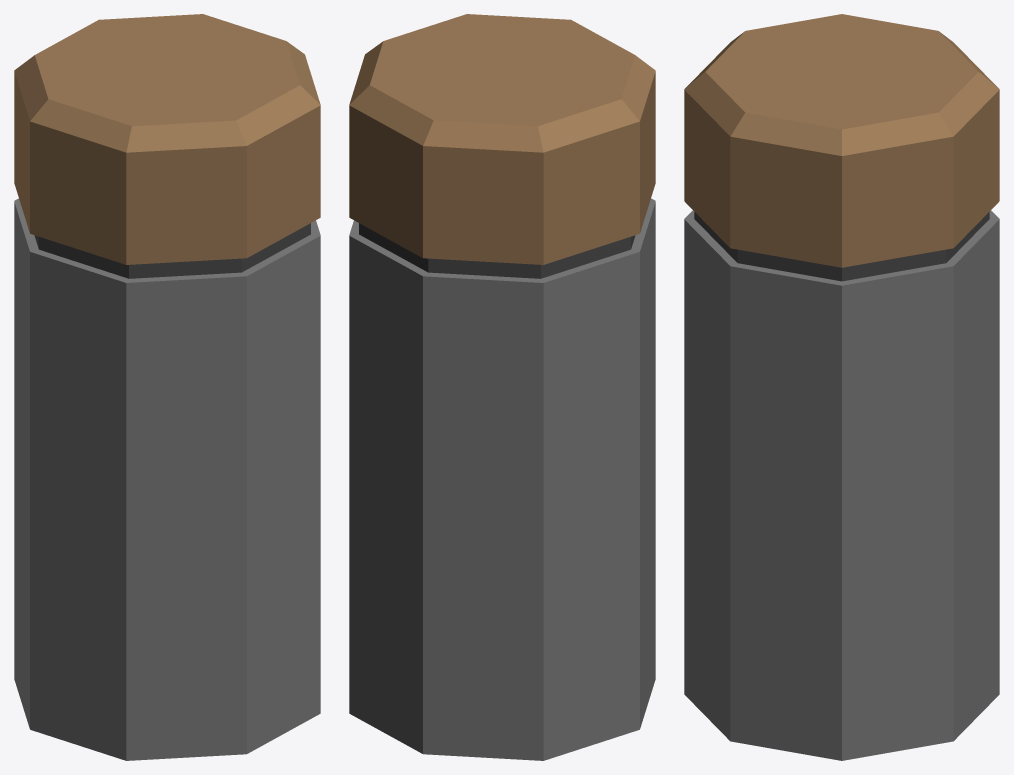
The model's file is Papper_01.fbx.
3 views of the same model, side by side, from view 1: azimuth 30°, elevation 25°; view 2: azimuth 150°, elevation 25°; view 3: azimuth 270°, elevation 25° (orthographic).
Parts seen in each view (by area): view 1: Papper_01; view 2: Papper_01; view 3: Papper_01.
Part boxes in pixels (<box>): Papper_01: <box>14,14,320,760</box>; Papper_01: <box>349,14,655,760</box>; Papper_01: <box>684,14,999,760</box>.
Bounding box in the file's own units: 4.03 × 8.77 × 4.03.
